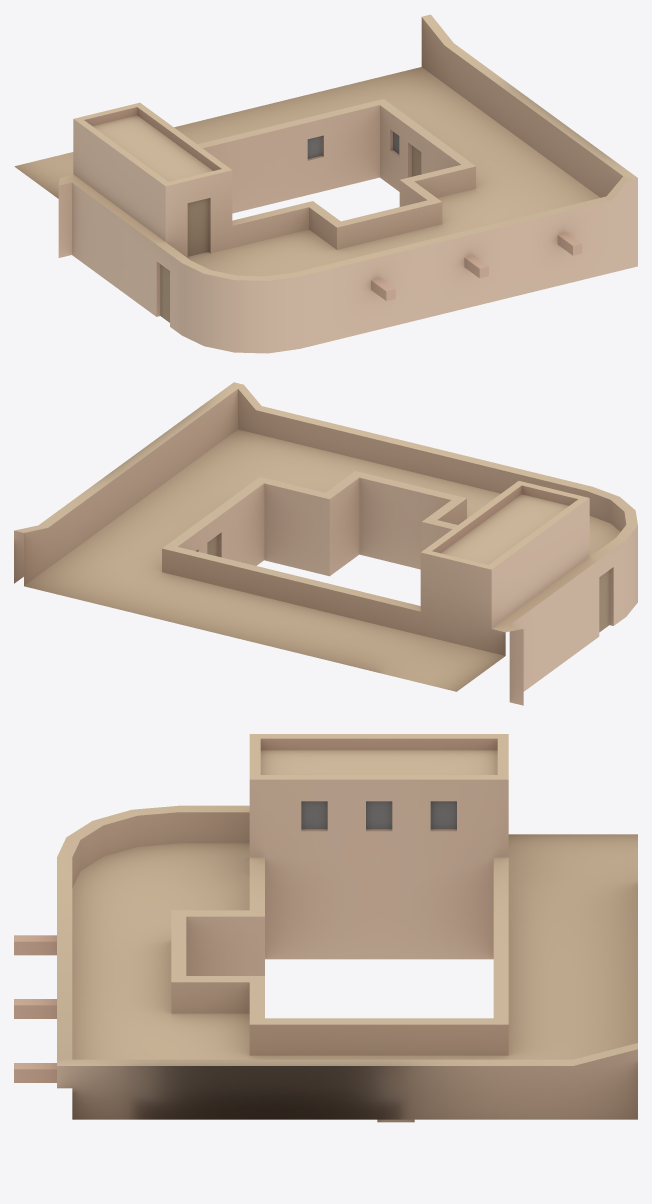
3 views of the same model, one above another, from view 1: azimuth 30°, elevation 25°; view 2: azimuth 150°, elevation 25°; view 3: azimuth 270°, elevation 25° (orthographic). The views are drawn at different scales.
Parts seen in each view (by area): view 1: atturaifworldheritagesite70030076209992634; view 2: atturaifworldheritagesite70030076209992634; view 3: atturaifworldheritagesite70030076209992634.
Boxes of the visible parts, x1,y1,x2,y2 form: atturaifworldheritagesite70030076209992634: (14, 14, 637, 353); atturaifworldheritagesite70030076209992634: (14, 382, 637, 705); atturaifworldheritagesite70030076209992634: (14, 734, 637, 1122).
Bounding box in the file's own units: 16 × 4.6 × 14.47.
Materials: 1 (1 with a texture image).
